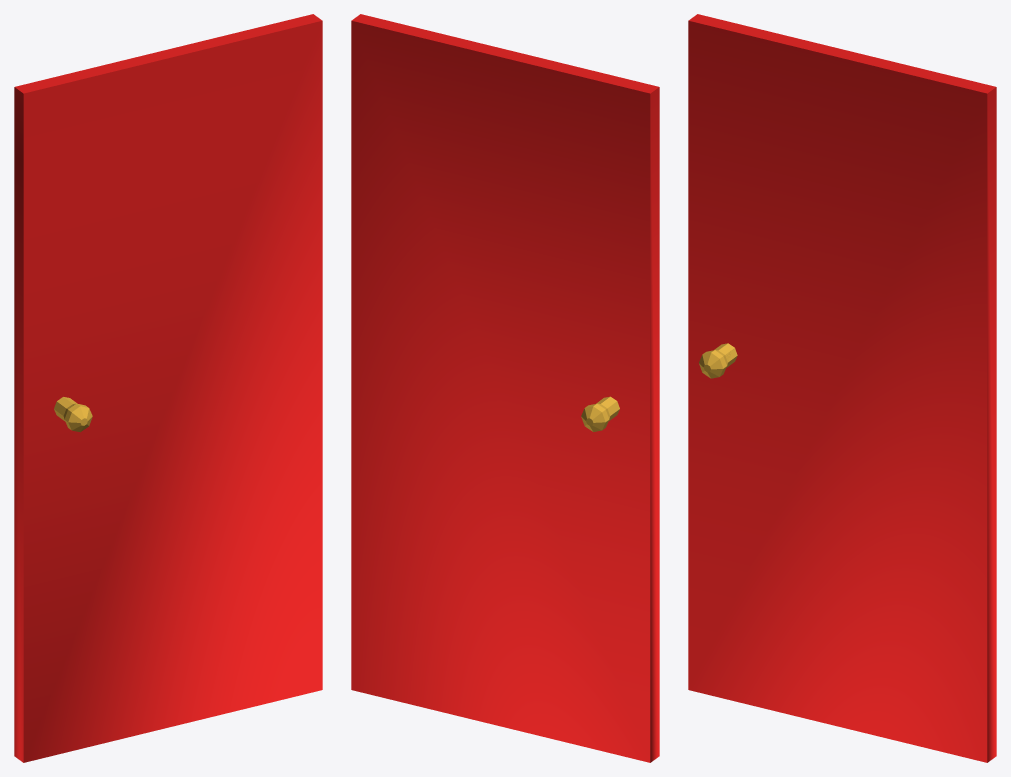
File: BP10_Door.fbx
3 renders of one model, left to right at view 1: azimuth 30°, elevation 25°; view 2: azimuth 150°, elevation 25°; view 3: azimuth 330°, elevation 25°, orthographic.
Parts seen in each view (by area): view 1: BP10_Door; view 2: BP10_Door; view 3: BP10_Door.
Part boxes in pixels (x1,y1,x2,y2): BP10_Door: (14, 14, 322, 762); BP10_Door: (351, 14, 659, 762); BP10_Door: (688, 14, 996, 762).
Bounding box in the file's own units: 94.54 × 202 × 27.91.
